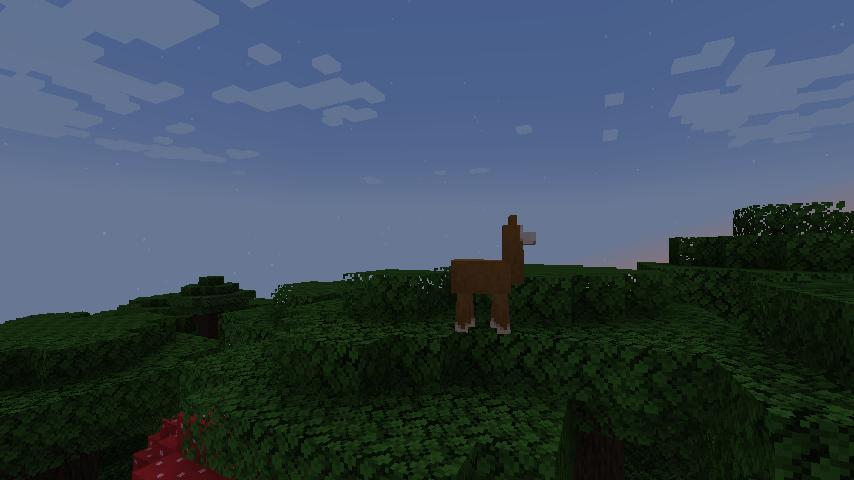llama: (443, 213, 540, 335)
